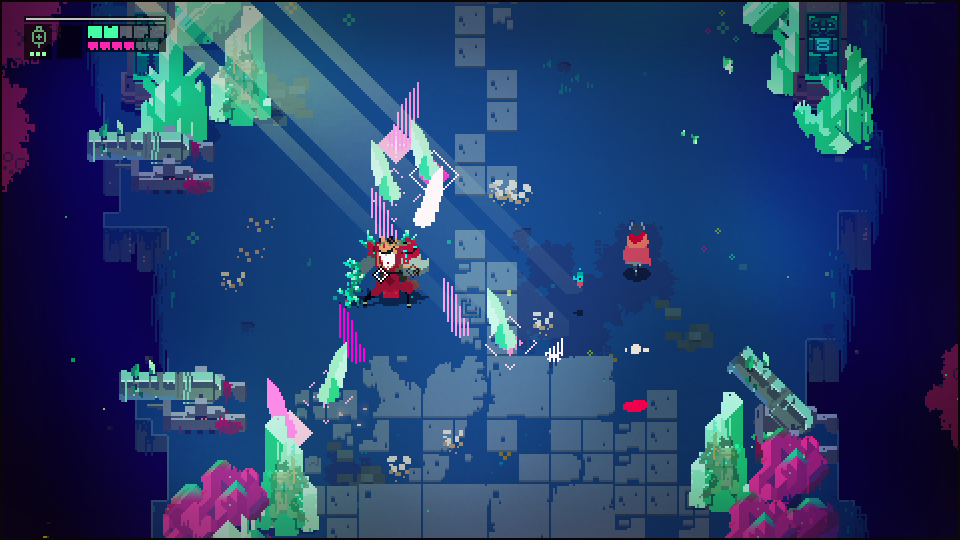hanged_crys: (383, 79, 424, 142), (415, 167, 450, 233), (487, 290, 524, 348), (441, 279, 473, 341), (366, 141, 399, 201), (321, 345, 349, 401), (411, 122, 438, 171)
hanged_man: (336, 227, 429, 307)
player: (621, 217, 657, 283)
